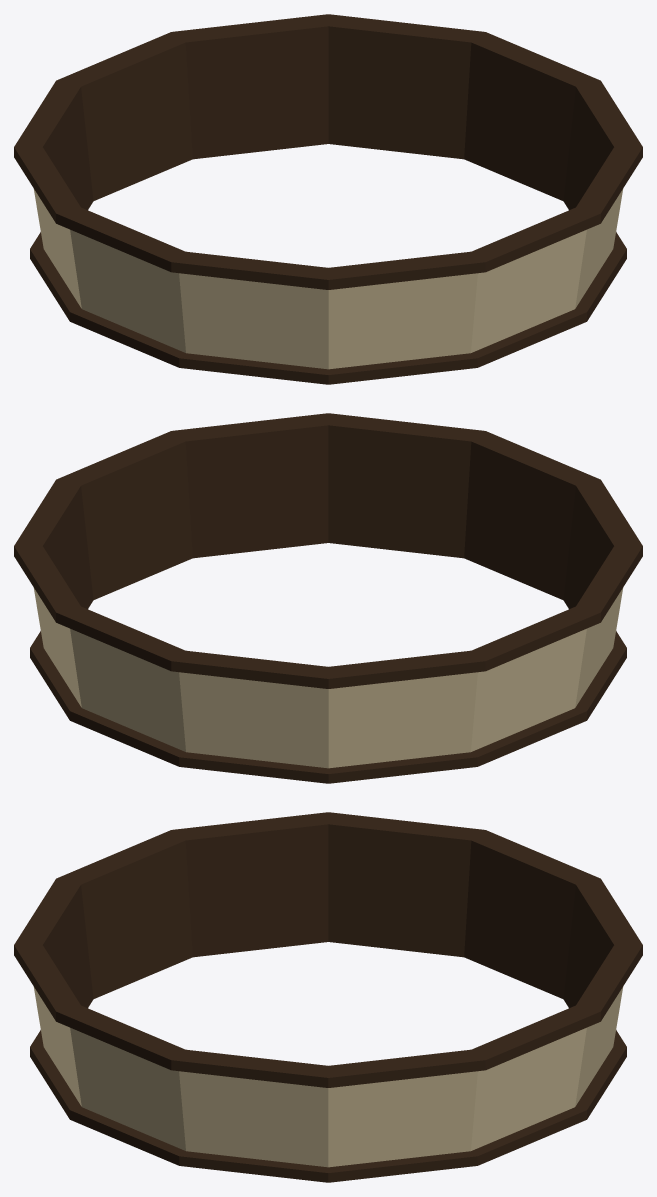
3 renders of one model, top to bottom at view 1: azimuth 30°, elevation 25°; view 2: azimuth 150°, elevation 25°; view 3: azimuth 270°, elevation 25°, orthographic.
Parts seen in each view (by area): view 1: 立方体.004; view 2: 立方体.004; view 3: 立方体.004.
Boxes of the visible parts, left/top/right/bottom form: 立方体.004: left=14, top=14, right=642, bottom=384; 立方体.004: left=14, top=413, right=642, bottom=783; 立方体.004: left=14, top=812, right=642, bottom=1182.
Bounding box in the file's own units: 187 × 36.66 × 187.
